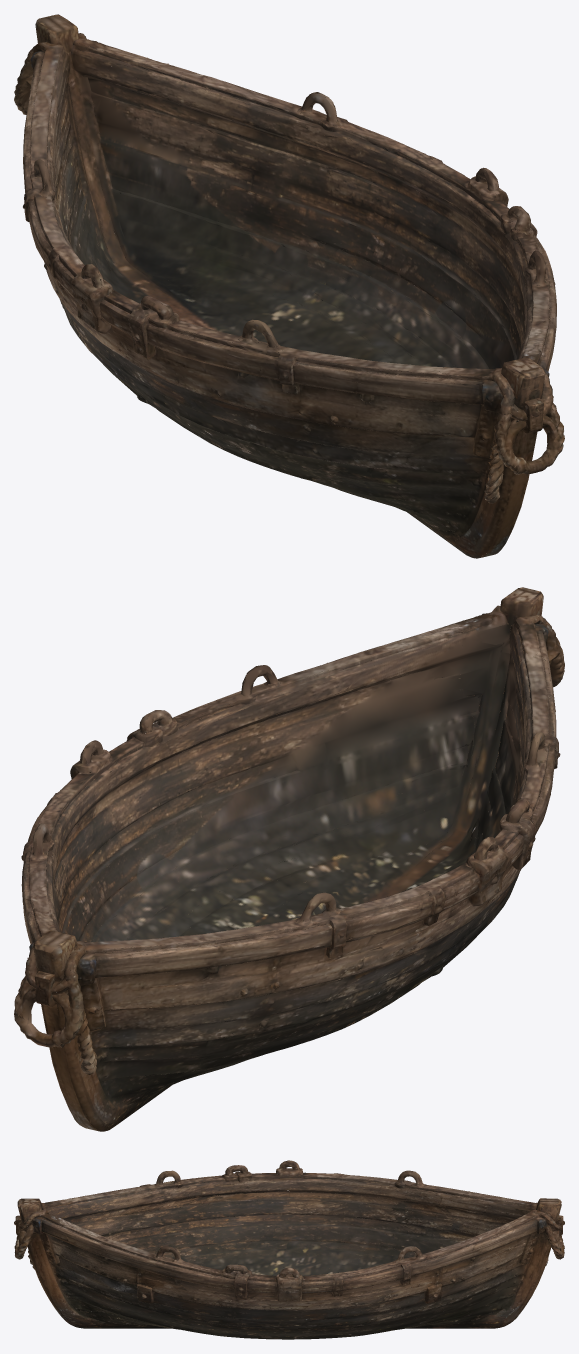
File: rowboat.glb
3 renders of one model, top to bottom at view 1: azimuth 30°, elevation 25°; view 2: azimuth 150°, elevation 25°; view 3: azimuth 270°, elevation 25°, orthographic. The views are drawn at different scales.
Parts seen in each view (by area): view 1: material; view 2: material; view 3: material.
Boxes of the visible parts, x1,y1,x2,y2 form: material: (14,14,564,558); material: (14,587,564,1131); material: (14,1160,564,1339).
Size of the model in its own units: 0.5755 by 0.2951 by 1.18.
1 material, 1 textured.
